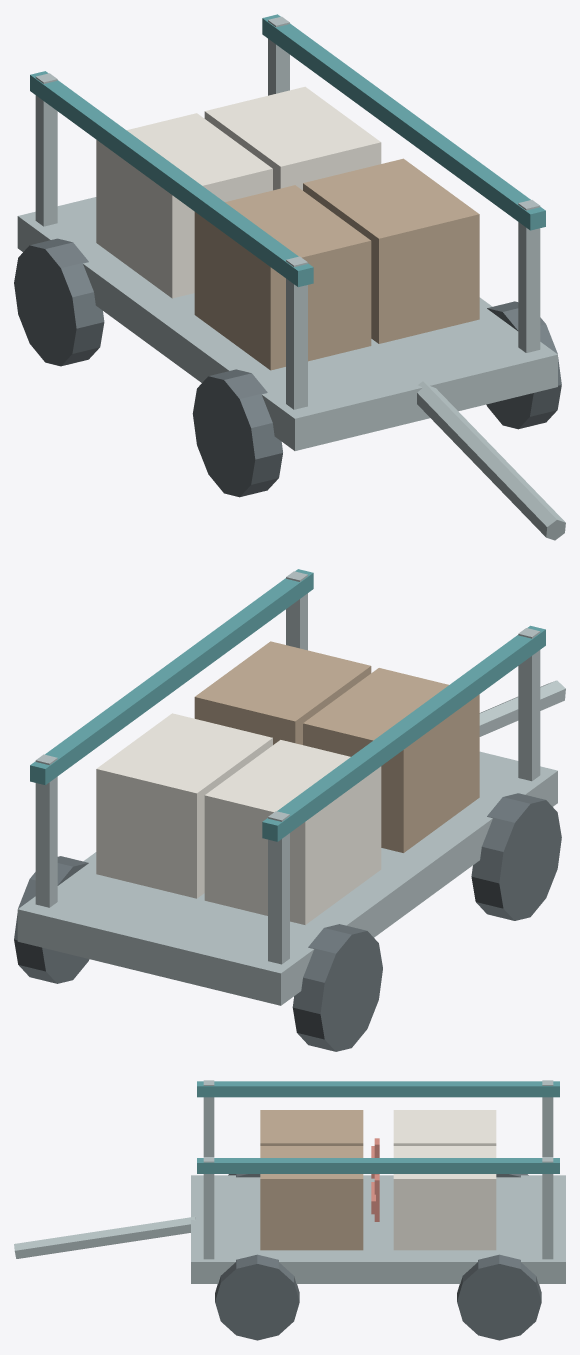
File: baggage_cart.glb
The picture shows the model from 3 angles, top to bottom: view 1: azimuth 30°, elevation 25°; view 2: azimuth 150°, elevation 25°; view 3: azimuth 270°, elevation 25°; orthographic projection. The views are drawn at different scales.
Visible parts, largest first — view 1: baggage_cart__platform, baggage_cart__supply_box, baggage_cart__supply_box.001, baggage_cart__supply_box.002, baggage_cart__supply_box.003, baggage_cart__wheel.001, baggage_cart__wheel, baggage_cart__side_rail, baggage_cart__side_rail.001, baggage_cart__towbar, baggage_cart__rail_post.002, baggage_cart__rail_post.001 (+3 smaller); view 2: baggage_cart__platform, baggage_cart__supply_box.002, baggage_cart__supply_box.003, baggage_cart__supply_box, baggage_cart__supply_box.001, baggage_cart__wheel, baggage_cart__wheel.001, baggage_cart__side_rail.001, baggage_cart__side_rail, baggage_cart__rail_post.003, baggage_cart__rail_post, baggage_cart__rail_post.001 (+3 smaller); view 3: baggage_cart__platform, baggage_cart__supply_box.001, baggage_cart__supply_box.003, baggage_cart__side_rail, baggage_cart__side_rail.001, baggage_cart__wheel.002, baggage_cart__wheel.003, baggage_cart__supply_box, baggage_cart__supply_box.002, baggage_cart__towbar, baggage_cart__rail_post.003, baggage_cart__rail_post.002 (+2 smaller).
Boxes of the visible parts, bbox=[...] form: baggage_cart__platform: bbox=[17, 197, 557, 450]; baggage_cart__supply_box: bbox=[194, 185, 371, 370]; baggage_cart__supply_box.001: bbox=[303, 158, 479, 343]; baggage_cart__supply_box.002: bbox=[96, 113, 272, 298]; baggage_cart__supply_box.003: bbox=[204, 86, 381, 190]; baggage_cart__wheel.001: bbox=[14, 238, 104, 366]; baggage_cart__wheel: bbox=[192, 369, 282, 497]; baggage_cart__side_rail: bbox=[30, 71, 313, 287]; baggage_cart__side_rail.001: bbox=[262, 14, 545, 230]; baggage_cart__towbar: bbox=[417, 381, 565, 540]; baggage_cart__rail_post.002: bbox=[518, 200, 540, 352]; baggage_cart__rail_post.001: bbox=[35, 73, 57, 226]; baggage_cart__platform: bbox=[17, 751, 557, 1005]; baggage_cart__supply_box.002: bbox=[204, 740, 381, 924]; baggage_cart__supply_box.003: bbox=[96, 713, 272, 898]; baggage_cart__supply_box: bbox=[303, 668, 479, 852]; baggage_cart__supply_box.001: bbox=[194, 641, 371, 744]; baggage_cart__wheel: bbox=[471, 793, 561, 920]; baggage_cart__wheel.001: bbox=[292, 924, 382, 1051]; baggage_cart__side_rail.001: bbox=[30, 569, 313, 785]; baggage_cart__side_rail: bbox=[262, 625, 545, 841]; baggage_cart__rail_post.003: bbox=[35, 754, 57, 907]; baggage_cart__rail_post: bbox=[518, 628, 540, 781]; baggage_cart__rail_post.001: bbox=[268, 811, 289, 964]; baggage_cart__platform: bbox=[191, 1175, 565, 1283]; baggage_cart__supply_box.001: bbox=[260, 1146, 363, 1250]; baggage_cart__supply_box.003: bbox=[393, 1146, 496, 1250]; baggage_cart__side_rail: bbox=[197, 1081, 559, 1097]; baggage_cart__side_rail.001: bbox=[197, 1158, 559, 1173]; baggage_cart__wheel.002: bbox=[215, 1254, 299, 1340]; baggage_cart__wheel.003: bbox=[457, 1254, 541, 1340]; baggage_cart__supply_box: bbox=[260, 1110, 363, 1145]; baggage_cart__supply_box.002: bbox=[393, 1110, 496, 1145]; baggage_cart__towbar: bbox=[14, 1216, 195, 1258]; baggage_cart__rail_post.003: bbox=[542, 1157, 553, 1259]; baggage_cart__rail_post.002: bbox=[203, 1157, 214, 1259].
Size of the model in its own units: 1.98 by 1.54 by 4.56.
